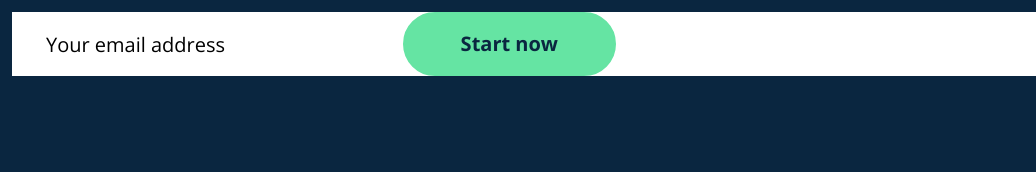
Scenario: SignupForm › never renders what was typed, so markup in the field cannot inject anything
This screenshot has width=1036, height=172.
Type "\"><img src=x onerror=alert(1)><script>alert(2)</script>" into the field labelled "email address".
click(195, 44); type("\"><img src=x onerror=alert(1)><script>alert(2)</script>")  # box x1=12 y1=16 x2=379 y2=72
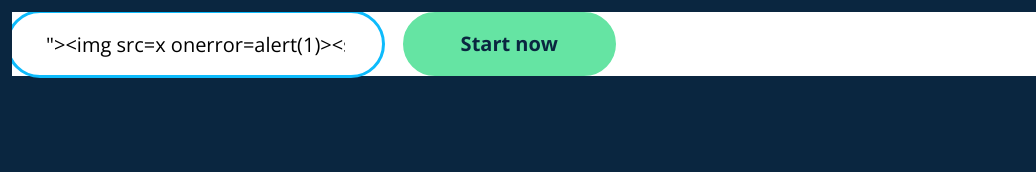
Click the button "Start now".
click(509, 44)  # box x1=403 y1=12 x2=616 y2=76
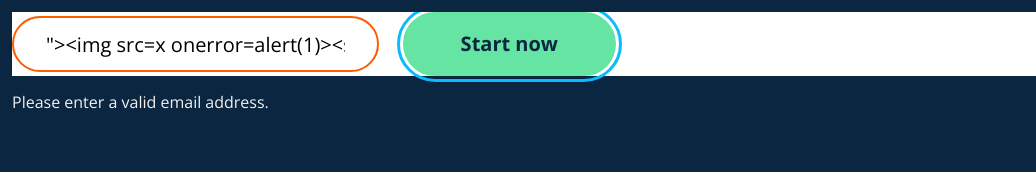
Expected: the text "alert(" is not shown
Expected: the message reads "Please enter a valid email address.", x1=12 y1=91 x2=269 y2=113
